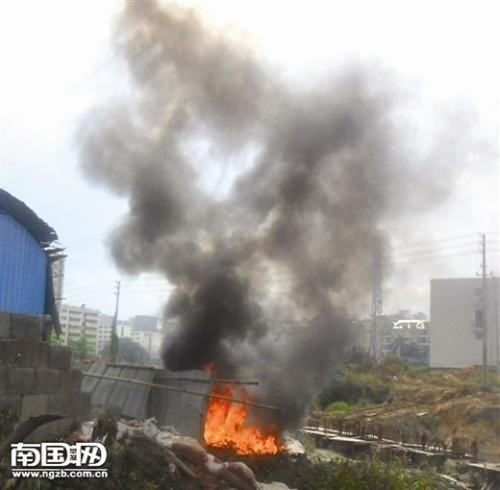fire: (200, 372, 290, 455)
